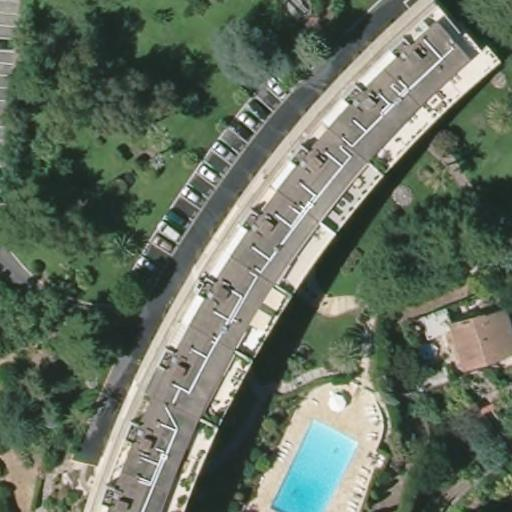pool: (264, 417, 360, 511)
